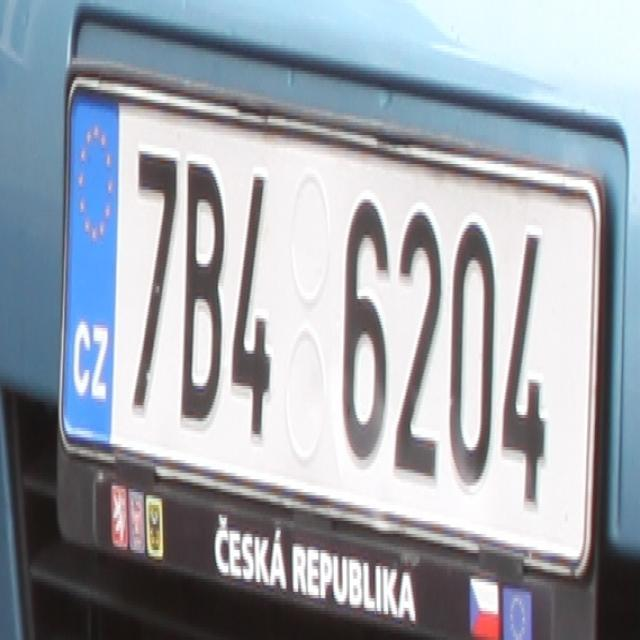0: (448, 215, 496, 482)
2: (393, 196, 443, 486)
4: (500, 225, 550, 508), (230, 164, 268, 441)
6: (338, 190, 390, 470)
7: (128, 138, 176, 418)
B: (179, 154, 225, 424)
